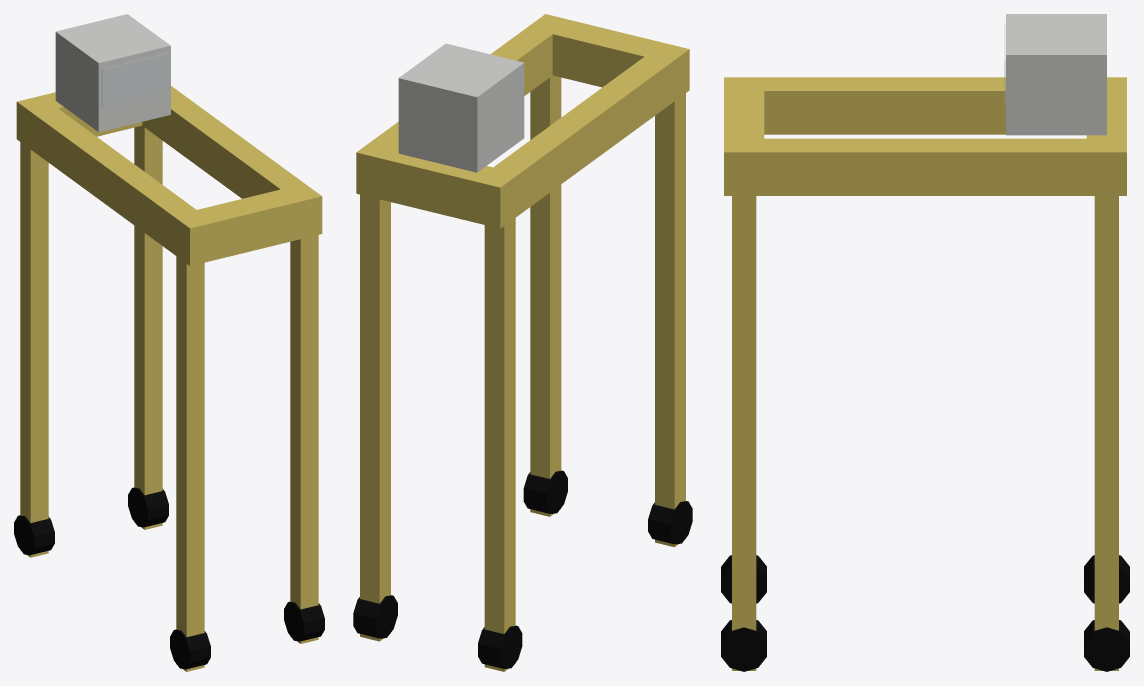
Rendered from straddle_carrier.glb.
The picture shows the model from 3 angles, left to right: view 1: azimuth 30°, elevation 25°; view 2: azimuth 150°, elevation 25°; view 3: azimuth 270°, elevation 25°; orthographic projection. The views are drawn at different scales.
Parts seen in each view (by area): view 1: LOD0; view 2: LOD0; view 3: LOD0.
Part boxes in pixels (x1,y1,x2,y2): LOD0: (14, 14, 324, 671); LOD0: (353, 14, 692, 671); LOD0: (721, 14, 1129, 671).
Size of what is drawn, in the model's own units: 4.5 by 16.4 by 10.14.
